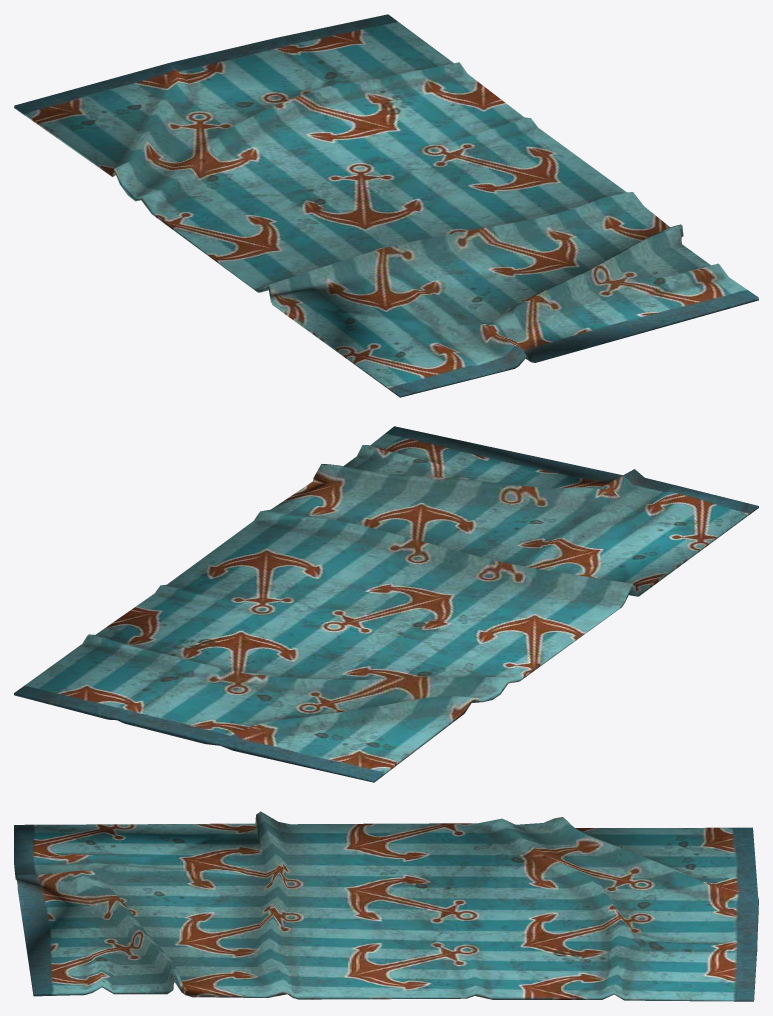
The model's file is beachtowel.deployed.corpse.glb.
3 views of the same model, one above another, from view 1: azimuth 30°, elevation 25°; view 2: azimuth 150°, elevation 25°; view 3: azimuth 270°, elevation 25° (orthographic). The views are drawn at different scales.
Parts seen in each view (by area): view 1: BeachTowel; view 2: BeachTowel; view 3: BeachTowel.
Boxes of the visible parts, left/top/right/bottom form: BeachTowel: left=14, top=14, right=758, bottom=397; BeachTowel: left=14, top=426, right=758, bottom=782; BeachTowel: left=14, top=811, right=758, bottom=1001.
Size of the model in its own units: 0.9683 by 0.0511 by 1.74.
1 material, 1 textured.
